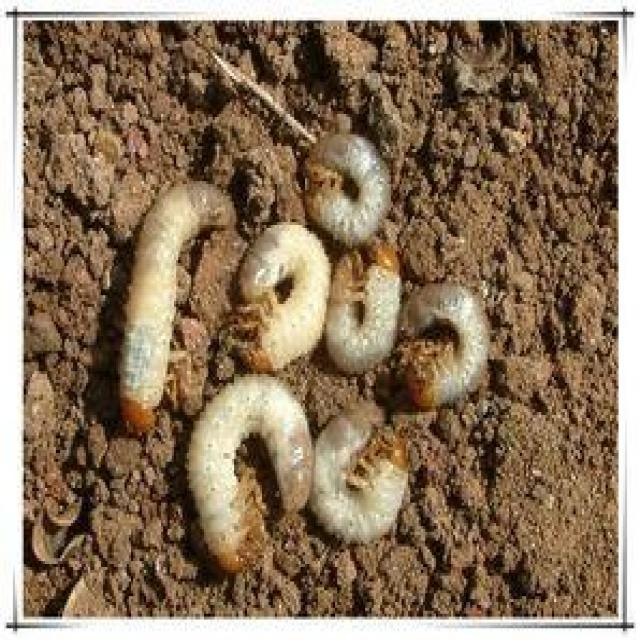Grub-Adult-: (112, 153, 238, 447), (187, 361, 313, 579), (223, 211, 337, 385), (300, 399, 430, 542), (406, 267, 506, 432), (292, 115, 413, 248), (316, 231, 413, 389)
